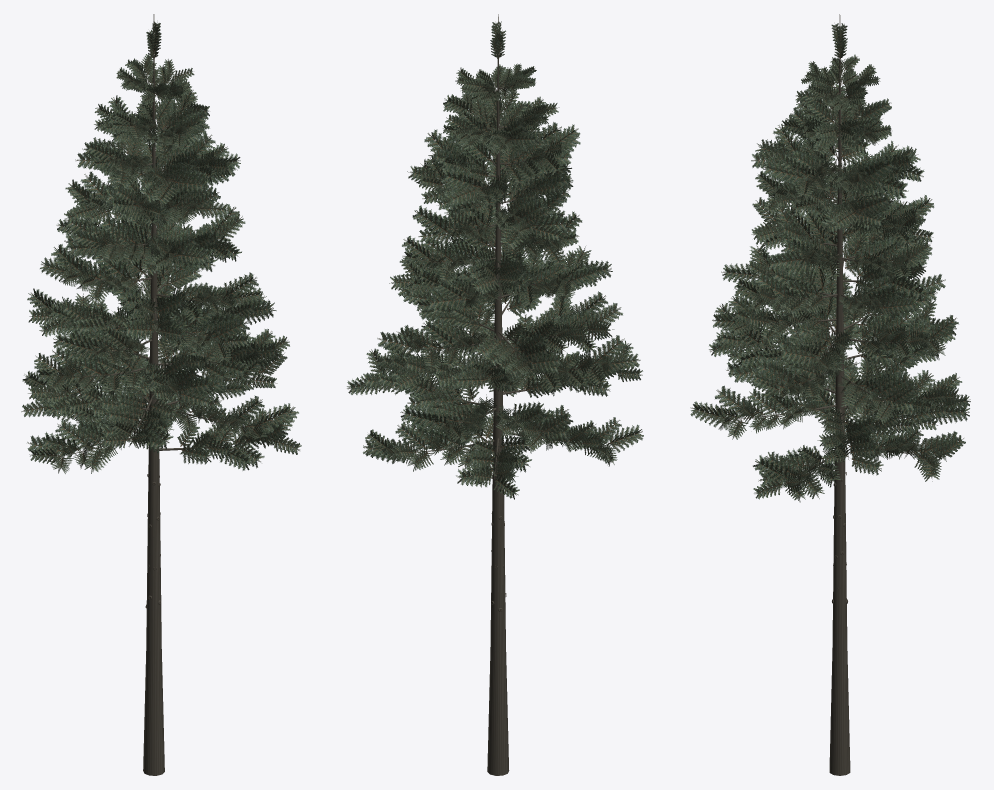
File: Sitka_Pole_01_HighPruned_Healed_LOD0.fbx
3 views of the same model, side by side, from view 1: azimuth 30°, elevation 25°; view 2: azimuth 150°, elevation 25°; view 3: azimuth 270°, elevation 25° (orthographic).
Parts seen in each view (by area): view 1: Sitka_Pole_01_HighPruned_Healed_LOD0; view 2: Sitka_Pole_01_HighPruned_Healed_LOD0; view 3: Sitka_Pole_01_HighPruned_Healed_LOD0.
Part boxes in pixels (x1,y1,x2,y2): Sitka_Pole_01_HighPruned_Healed_LOD0: (21, 14, 301, 775); Sitka_Pole_01_HighPruned_Healed_LOD0: (347, 14, 643, 775); Sitka_Pole_01_HighPruned_Healed_LOD0: (690, 14, 970, 775).
Size of the model in its own units: 303 by 800 by 285.
Materials: 3 (3 with a texture image).
